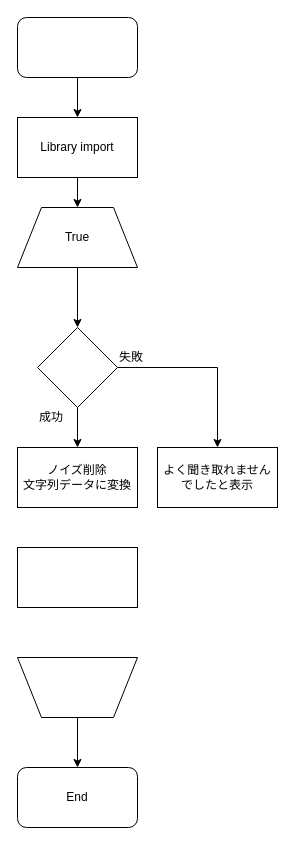
The diagram is 295 pixels wide and 845 high, and some of its shapes have lost their labels. Each missing label, with the box of its shape:
Start: (16, 16, 138, 78)
音声認識: (36, 326, 118, 408)
